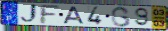4: (86, 6, 104, 27)
9: (134, 7, 150, 28)
A: (62, 6, 85, 25)
F: (38, 4, 62, 25)
G: (111, 6, 132, 28)
J: (19, 3, 39, 25)
